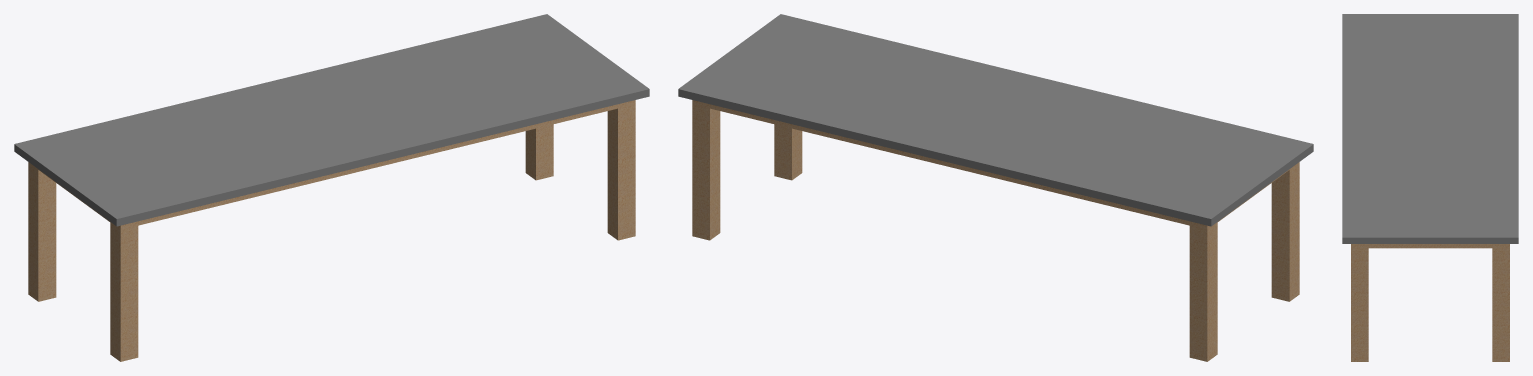
The picture shows the model from 3 angles, left to right: view 1: azimuth 30°, elevation 25°; view 2: azimuth 150°, elevation 25°; view 3: azimuth 270°, elevation 25°; orthographic projection. The views are drawn at different scales.
Visible parts, largest first — view 1: ID19, SketchUp; view 2: ID19, SketchUp; view 3: ID19, SketchUp.
Boxes of the visible parts, x1,y1,x2,y2 form: ID19: (14, 14, 649, 226); SketchUp: (28, 100, 635, 361); ID19: (678, 14, 1313, 226); SketchUp: (692, 100, 1299, 361); ID19: (1342, 14, 1518, 243); SketchUp: (1351, 244, 1509, 361).
Bounding box in the file's own units: 3 × 0.8 × 1.
2 materials, 1 textured.
